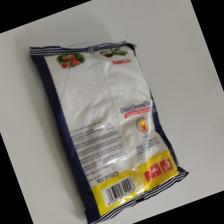Salt: (27, 39, 189, 224)
